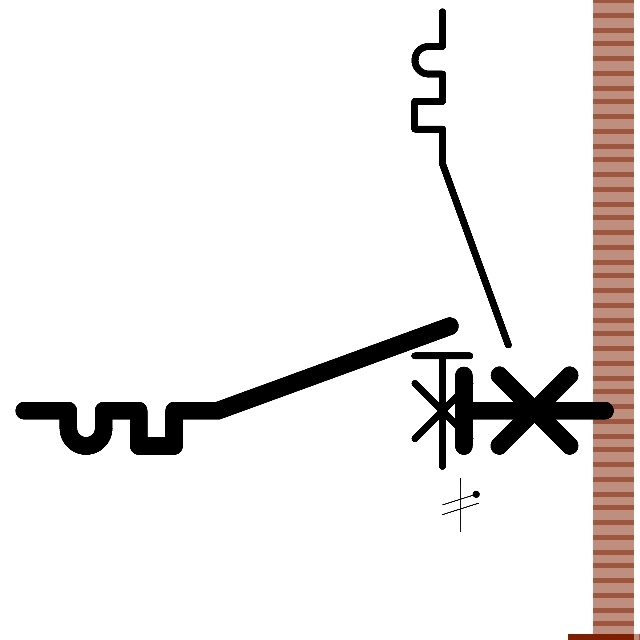interruptor_termomagnetico: (9, 311, 620, 461), (403, 0, 520, 478)
